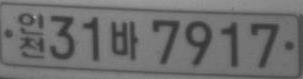1: (218, 20, 244, 68), (82, 15, 101, 62)
3: (49, 15, 75, 59)
7: (249, 22, 280, 69), (152, 19, 181, 66)
9: (184, 20, 212, 65)
바: (110, 19, 139, 61)
인천_V: (17, 10, 45, 59)
